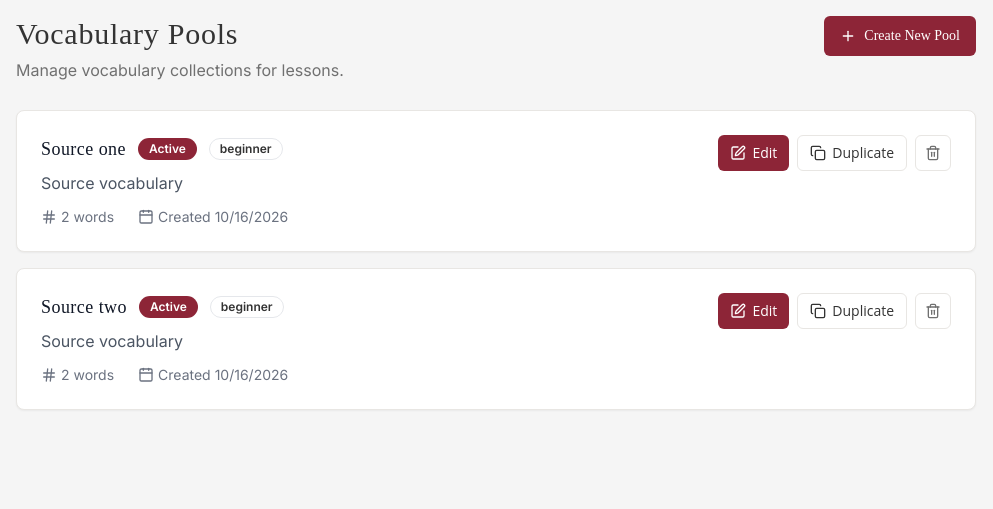
Test: a referenced-source rejection stays visible on its card even without a toast renderer
The width and height of the screenshot is (993, 509).
Click the button named "Delete Source one" at (933, 153), box x1=915 y1=135 x2=951 y2=171
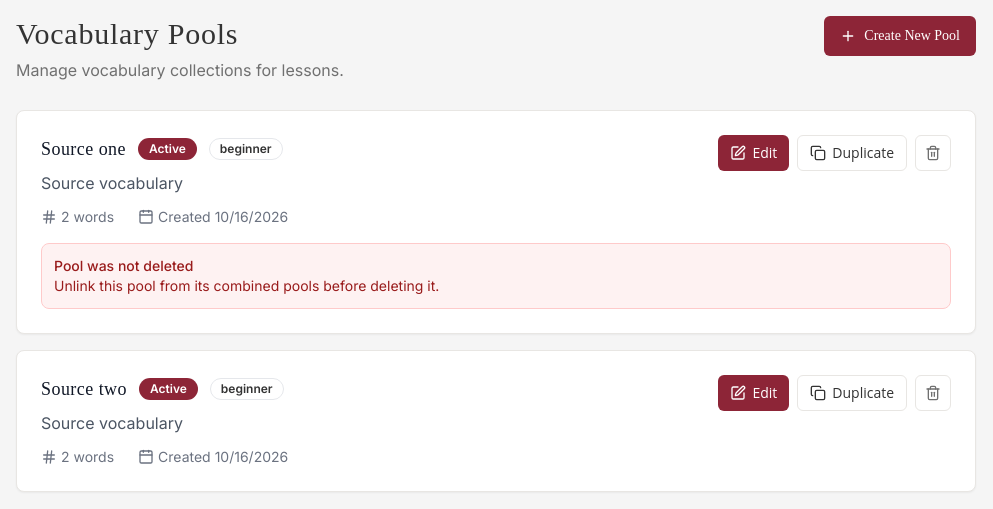
Result: the message shows "Unlink this pool from its combined pools before deleting it." at x1=54 y1=277 x2=439 y2=294
